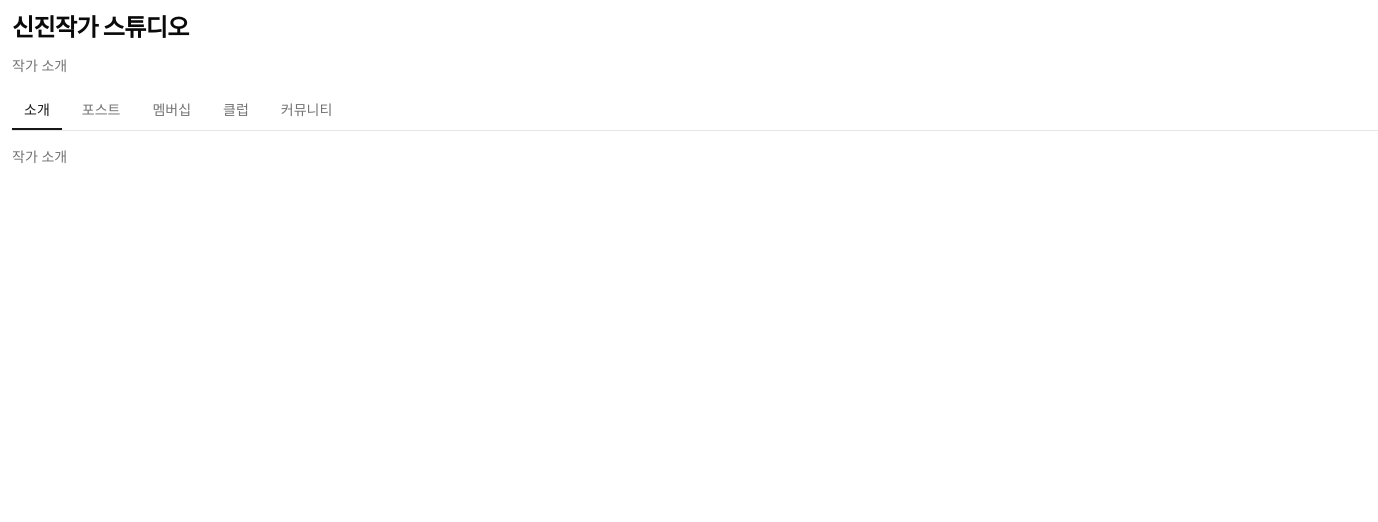
Scenario: StudioTabs › 권한 사용자에게 커뮤니티 글 목록과 작성 폼을 표시한다 (SPEC-007 FR-003, AC-002)
Click the tab "커뮤니티": (307, 111) [269,92,344,130]
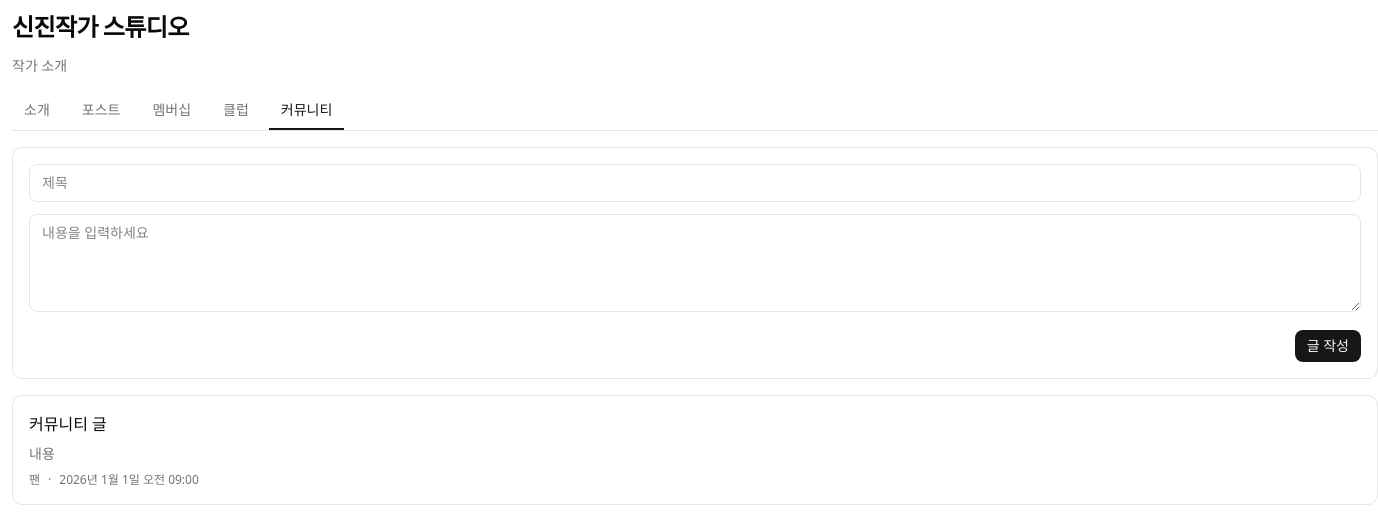
Check: the heading "커뮤니티 글" is shown, box [29,413,107,435]
Check: the button "글 작성" is shown, box [1295,330,1361,362]
